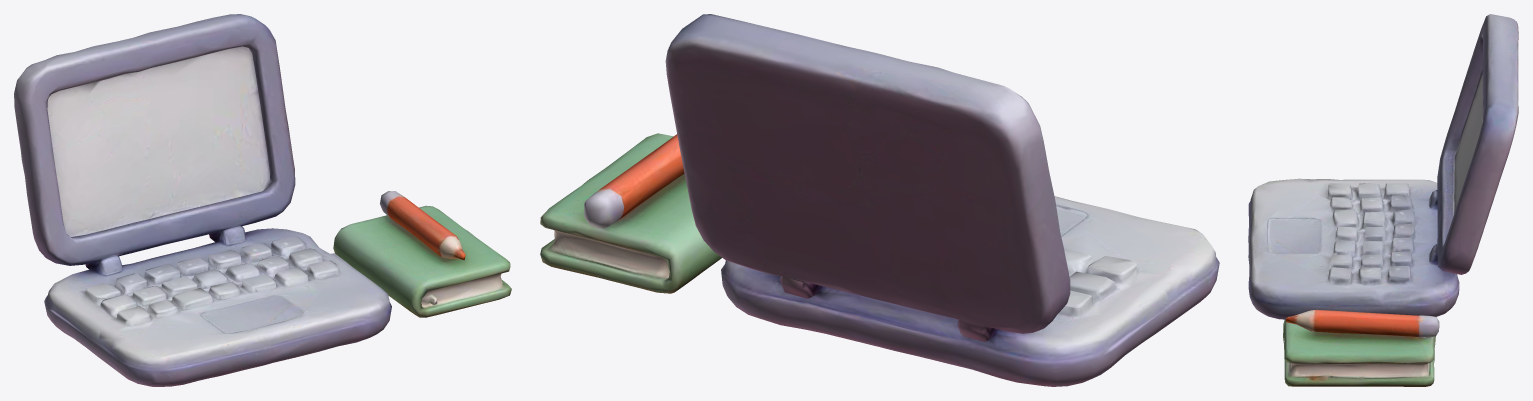
File: laptop.glb
The picture shows the model from 3 angles, left to right: view 1: azimuth 30°, elevation 25°; view 2: azimuth 150°, elevation 25°; view 3: azimuth 270°, elevation 25°; orthographic projection. The views are drawn at different scales.
Visible parts, largest first — view 1: tripo_node_179cd26f-8f51-4e1a-b40f-e84f91853590; view 2: tripo_node_179cd26f-8f51-4e1a-b40f-e84f91853590; view 3: tripo_node_179cd26f-8f51-4e1a-b40f-e84f91853590.
Boxes of the visible parts, box(x1,y1,x2,y2) form: tripo_node_179cd26f-8f51-4e1a-b40f-e84f91853590: box(14, 14, 511, 386); tripo_node_179cd26f-8f51-4e1a-b40f-e84f91853590: box(540, 14, 1219, 386); tripo_node_179cd26f-8f51-4e1a-b40f-e84f91853590: box(1248, 14, 1518, 386).
Bounding box in the file's own units: 1 × 0.5789 × 0.6517.
1 material, 1 textured.
